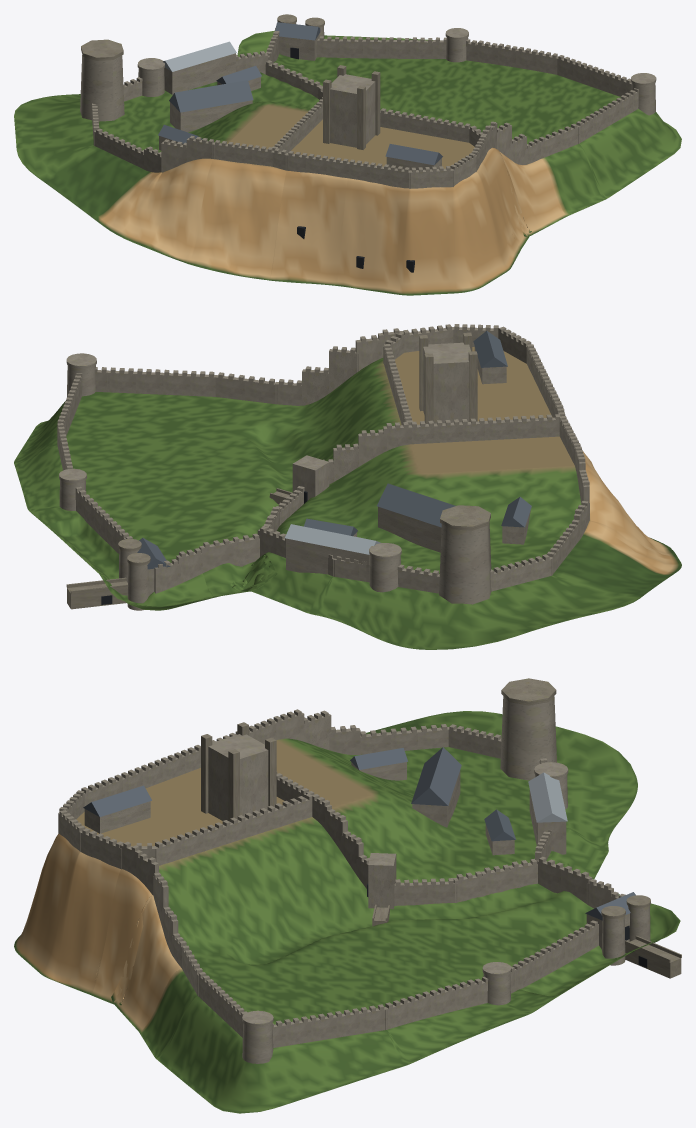
The model's file is nottingham-castle-b40.glb.
The picture shows the model from 3 angles, top to bottom: view 1: azimuth 30°, elevation 25°; view 2: azimuth 150°, elevation 25°; view 3: azimuth 270°, elevation 25°; orthographic projection. The views are drawn at different scales.
Bounding box in the file's own units: 25.6 × 6.63 × 20.96.
Materials: 6 (2 with a texture image).
